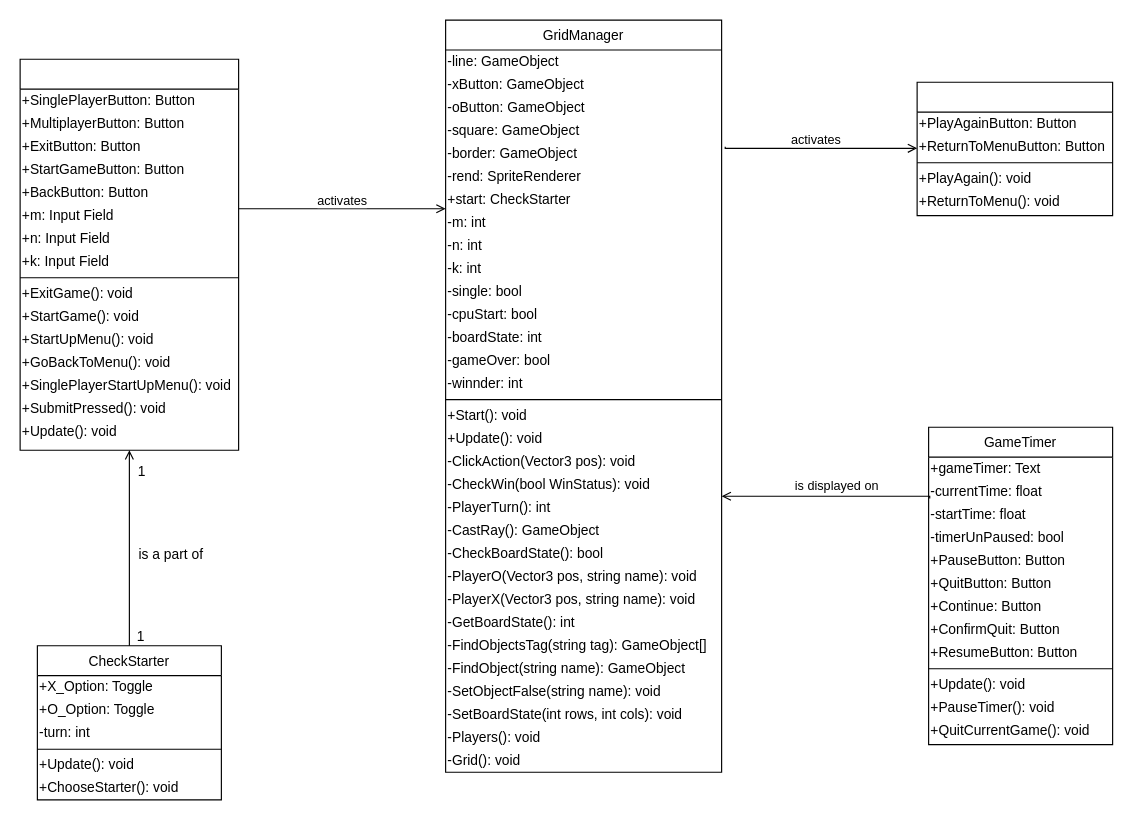
Image size: 1133x820. Some labels were removed from this diagram. Here are the shapes that lost their labels. From the top down, the box of each, then its label:
(916, 81, 1113, 216): EndGame
(19, 58, 239, 450): MainMenu
